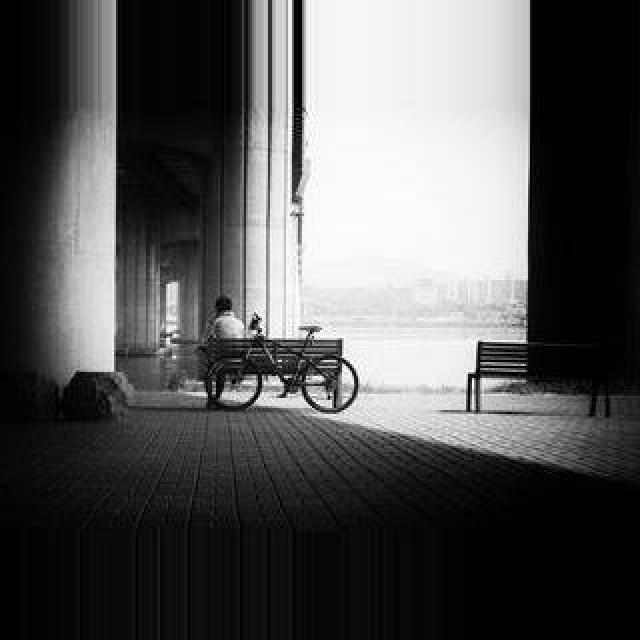MC-Bike: (194, 294, 246, 394), (208, 294, 246, 340)
Person: (204, 326, 360, 414)
